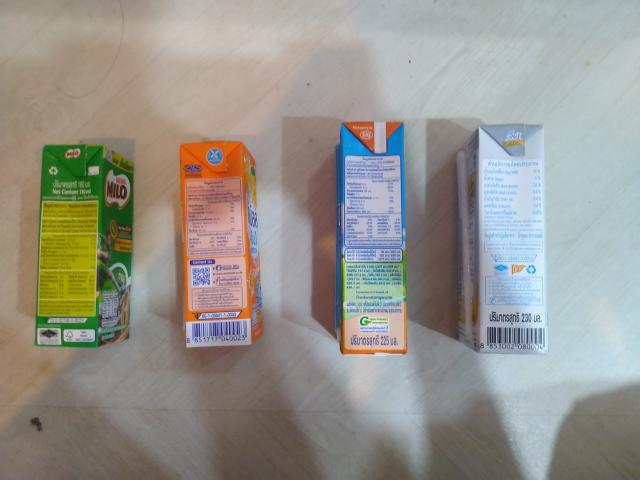drink_box: (21, 130, 146, 357), (449, 112, 554, 372), (325, 102, 424, 367), (163, 132, 277, 355)
